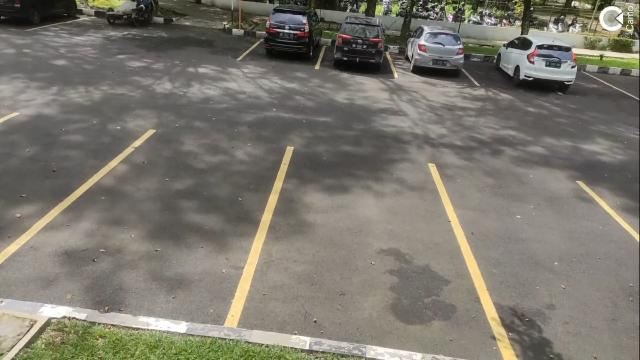empty: (261, 142, 471, 342), (52, 132, 264, 320), (468, 170, 640, 360)
occupied: (469, 38, 575, 94), (246, 4, 324, 70), (318, 14, 396, 78), (391, 26, 471, 82)
